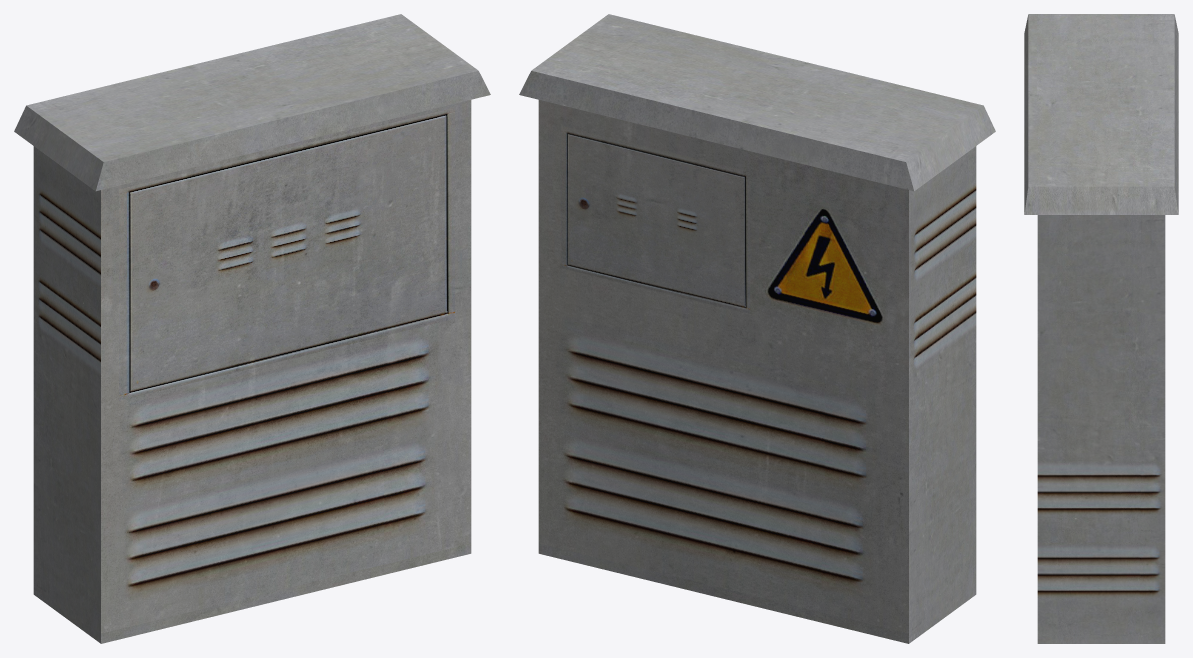
File: transformer.fbx
3 renders of one model, left to right at view 1: azimuth 30°, elevation 25°; view 2: azimuth 150°, elevation 25°; view 3: azimuth 270°, elevation 25°, orthographic. The views are drawn at different scales.
Parts seen in each view (by area): view 1: transformer; view 2: transformer; view 3: transformer.
Boxes of the visible parts, bbox=[...] form: transformer: bbox=[14, 14, 490, 643]; transformer: bbox=[519, 14, 995, 643]; transformer: bbox=[1024, 14, 1178, 643].
Bounding box in the file's own units: 84.83 × 99.65 × 30.37.
